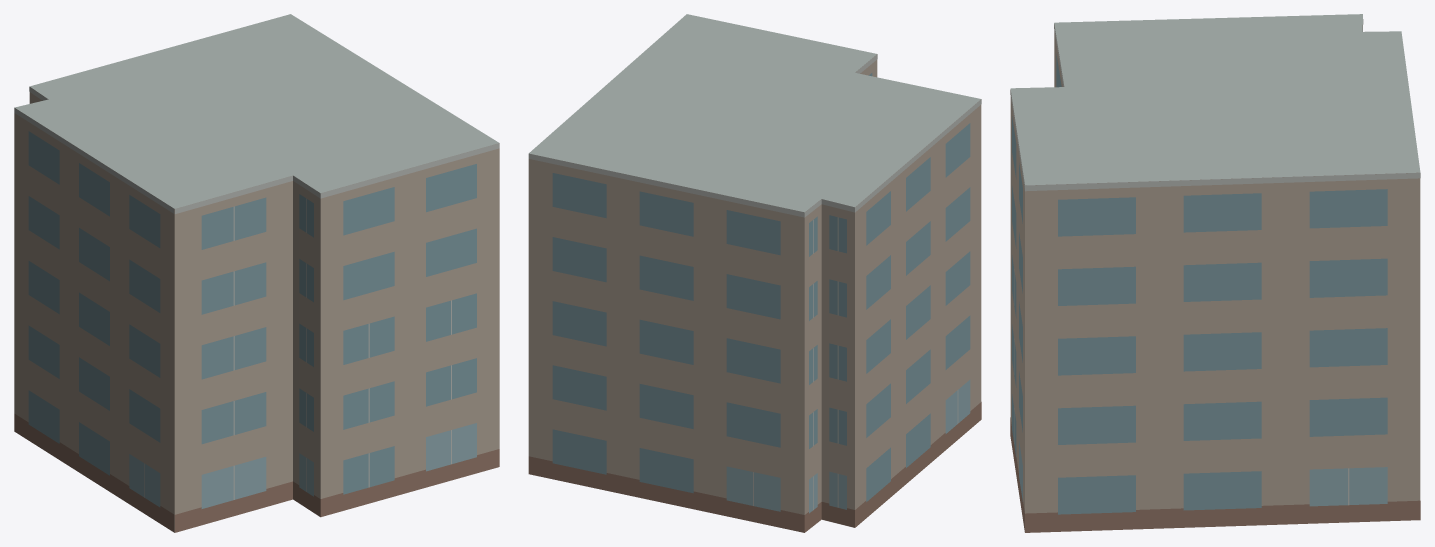
The model's file is survey-upis-32996674.glb.
3 renders of one model, left to right at view 1: azimuth 30°, elevation 25°; view 2: azimuth 150°, elevation 25°; view 3: azimuth 270°, elevation 25°, orthographic. The views are drawn at different scales.
Parts seen in each view (by area): view 1: survey-upis-32996674.tmp; view 2: survey-upis-32996674.tmp; view 3: survey-upis-32996674.tmp.
Boxes of the visible parts, x1=… form: survey-upis-32996674.tmp: x1=14, y1=14, x2=499, y2=532; survey-upis-32996674.tmp: x1=528, y1=14, x2=981, y2=532; survey-upis-32996674.tmp: x1=1010, y1=14, x2=1420, y2=532.
Size of the model in its own units: 15.62 by 14.75 by 15.79.
